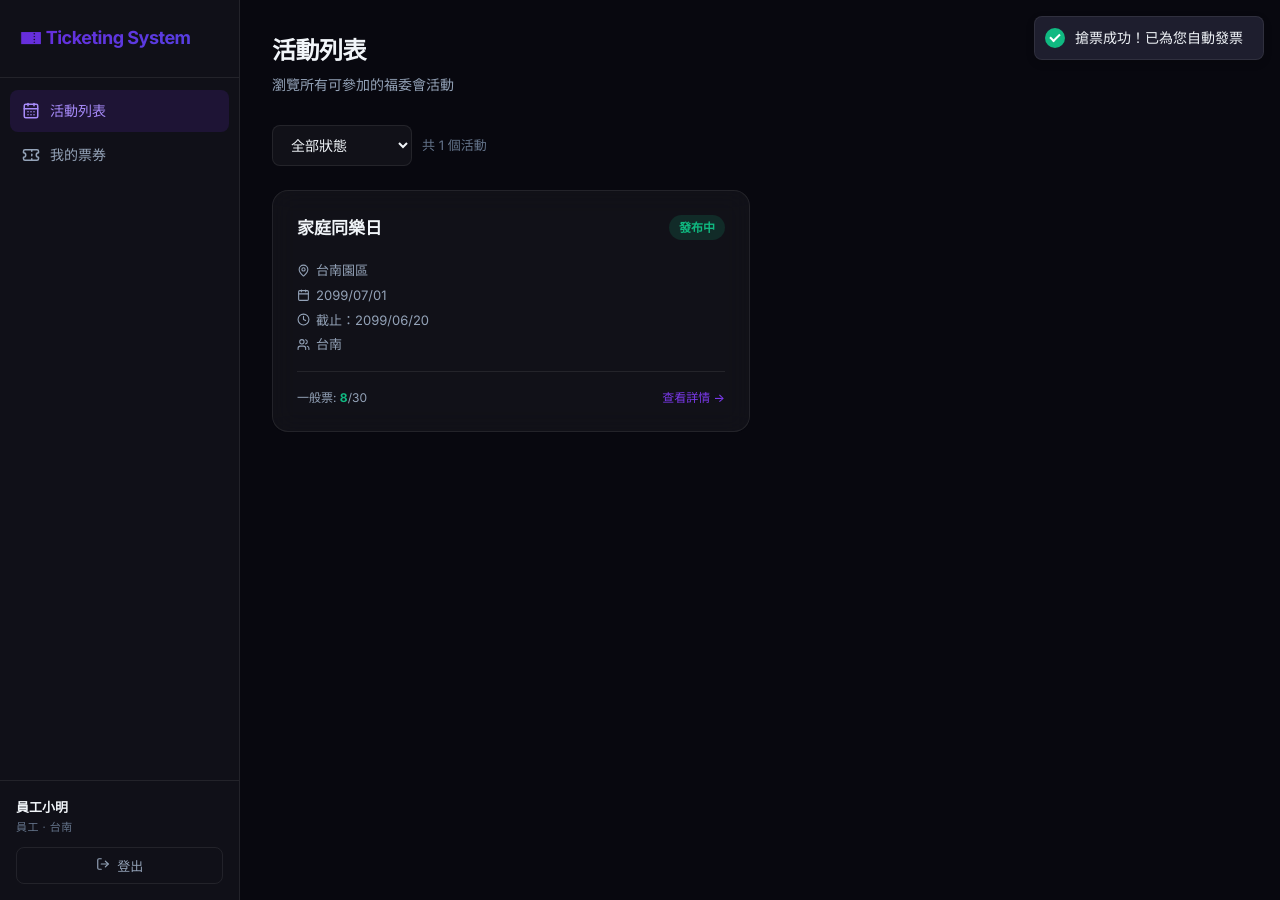
員工票券整合流程 › 員工申請進入排隊時會留在活動詳情且不立即顯示票券
The width and height of the screenshot is (1280, 900).
Check: the text "家庭同樂日" is shown, box x1=297 y1=215 x2=382 y2=242
Click the text "查看詳情 →" at x=694, y=398, box x1=662 y1=388 x2=725 y2=407
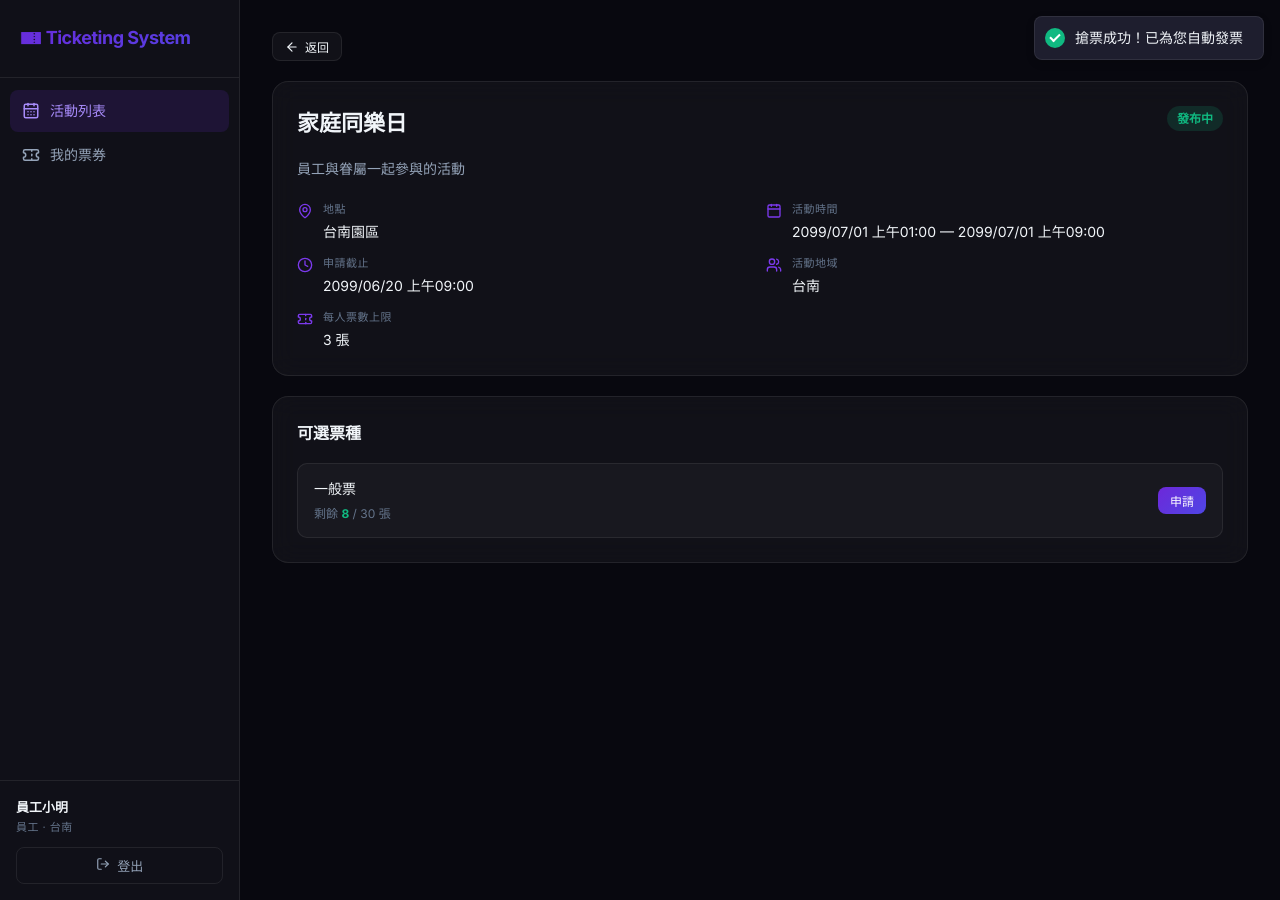
Click the button "申請" at x=1182, y=500, box x1=1158 y1=487 x2=1206 y2=514
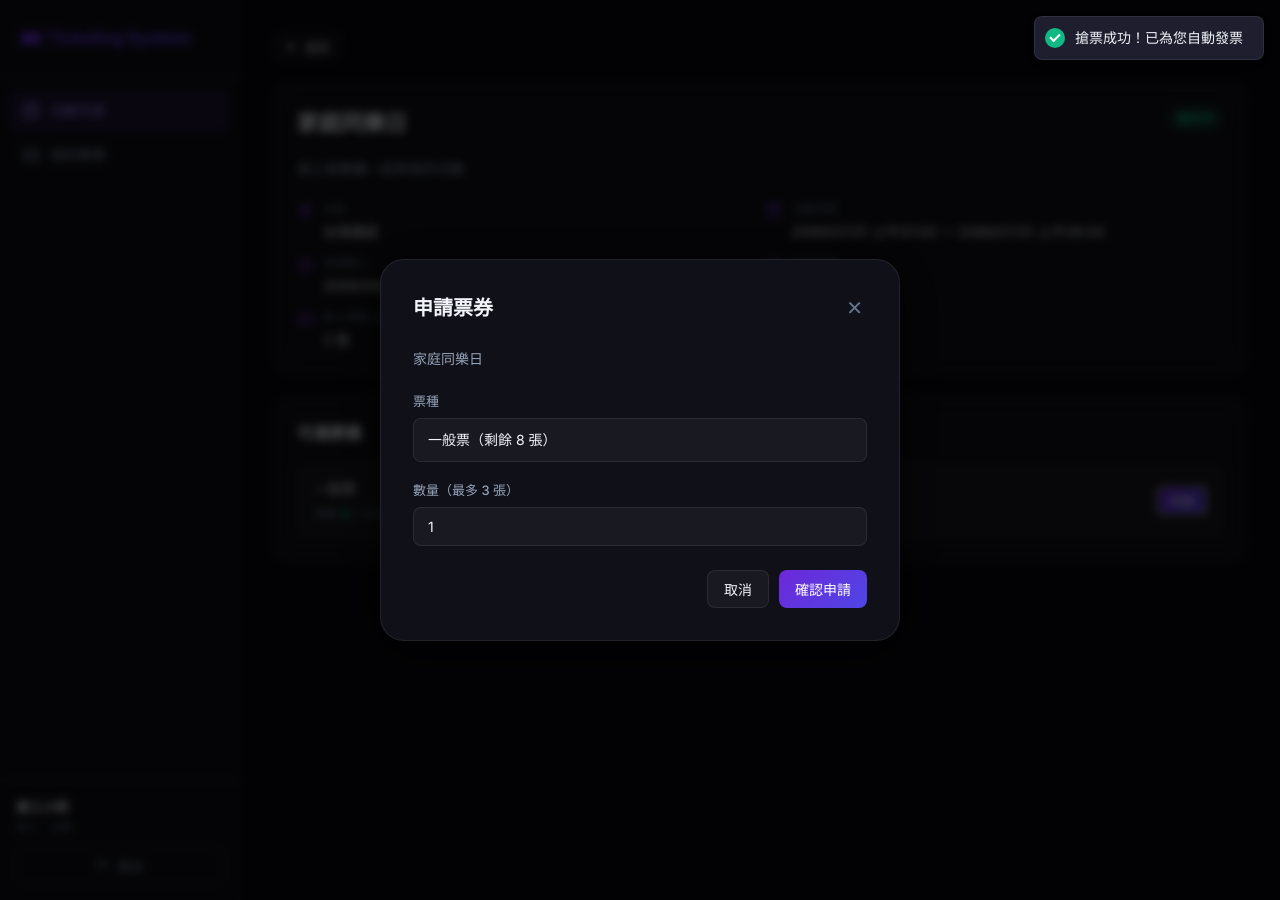
Click the button "確認申請" at x=823, y=589, box x1=779 y1=570 x2=867 y2=608
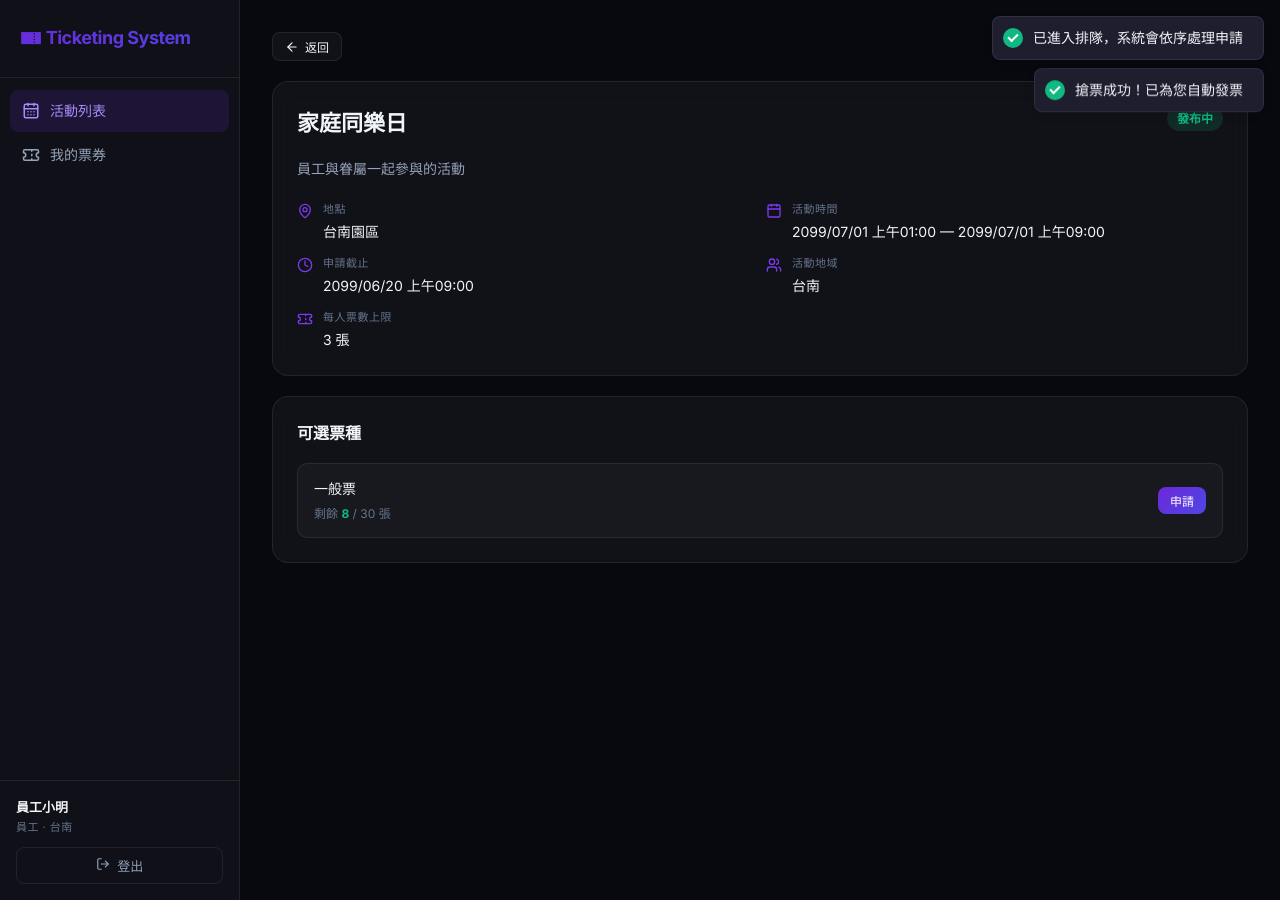
Check: the text "已進入排隊，系統會依序處理申請" is shown, box x1=1033 y1=29 x2=1243 y2=47
Click the link "我的票券" at x=64, y=155, box x1=22 y1=146 x2=106 y2=164
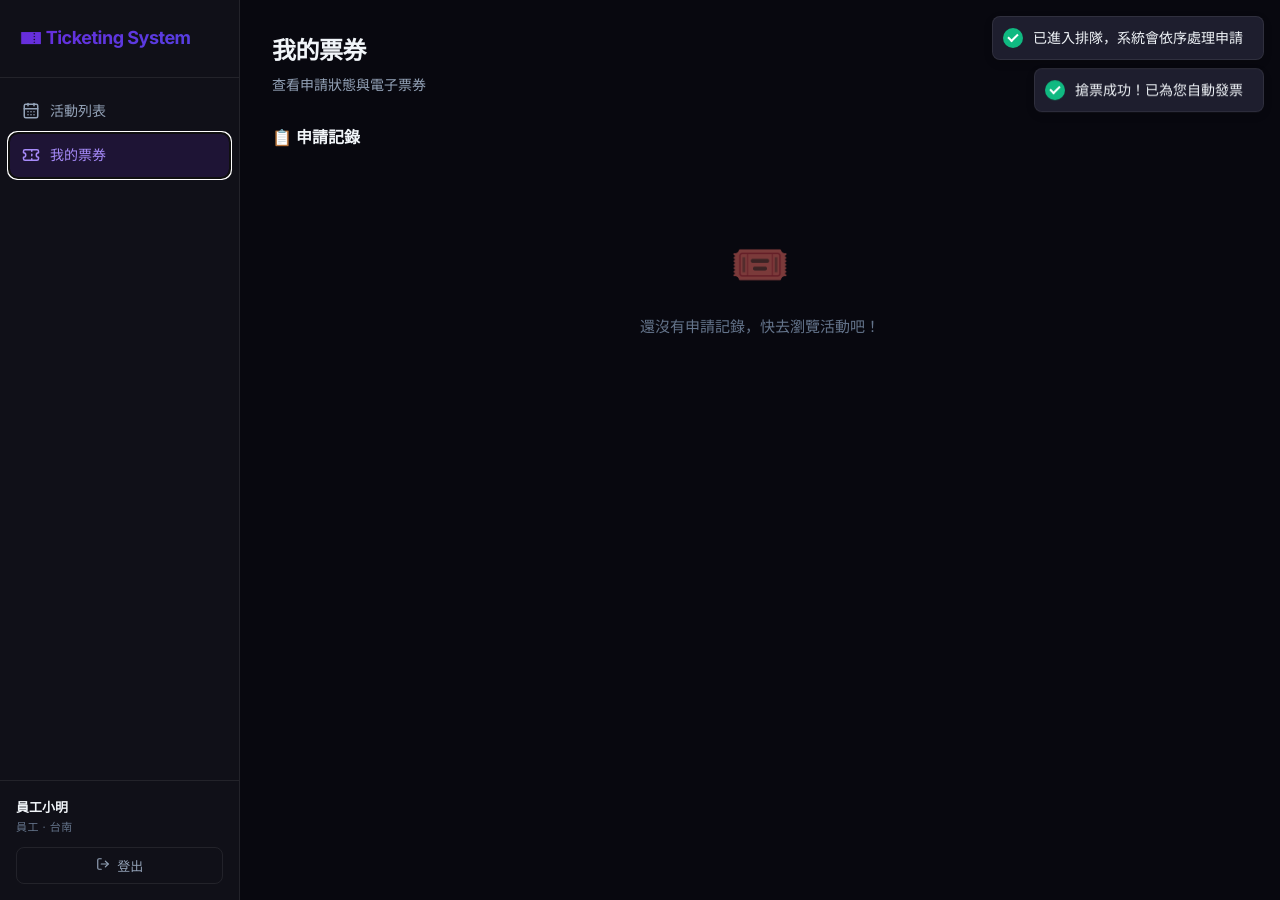
Check: the text "還沒有申請記錄，快去瀏覽活動吧！" is shown, box x1=640 y1=317 x2=880 y2=336
